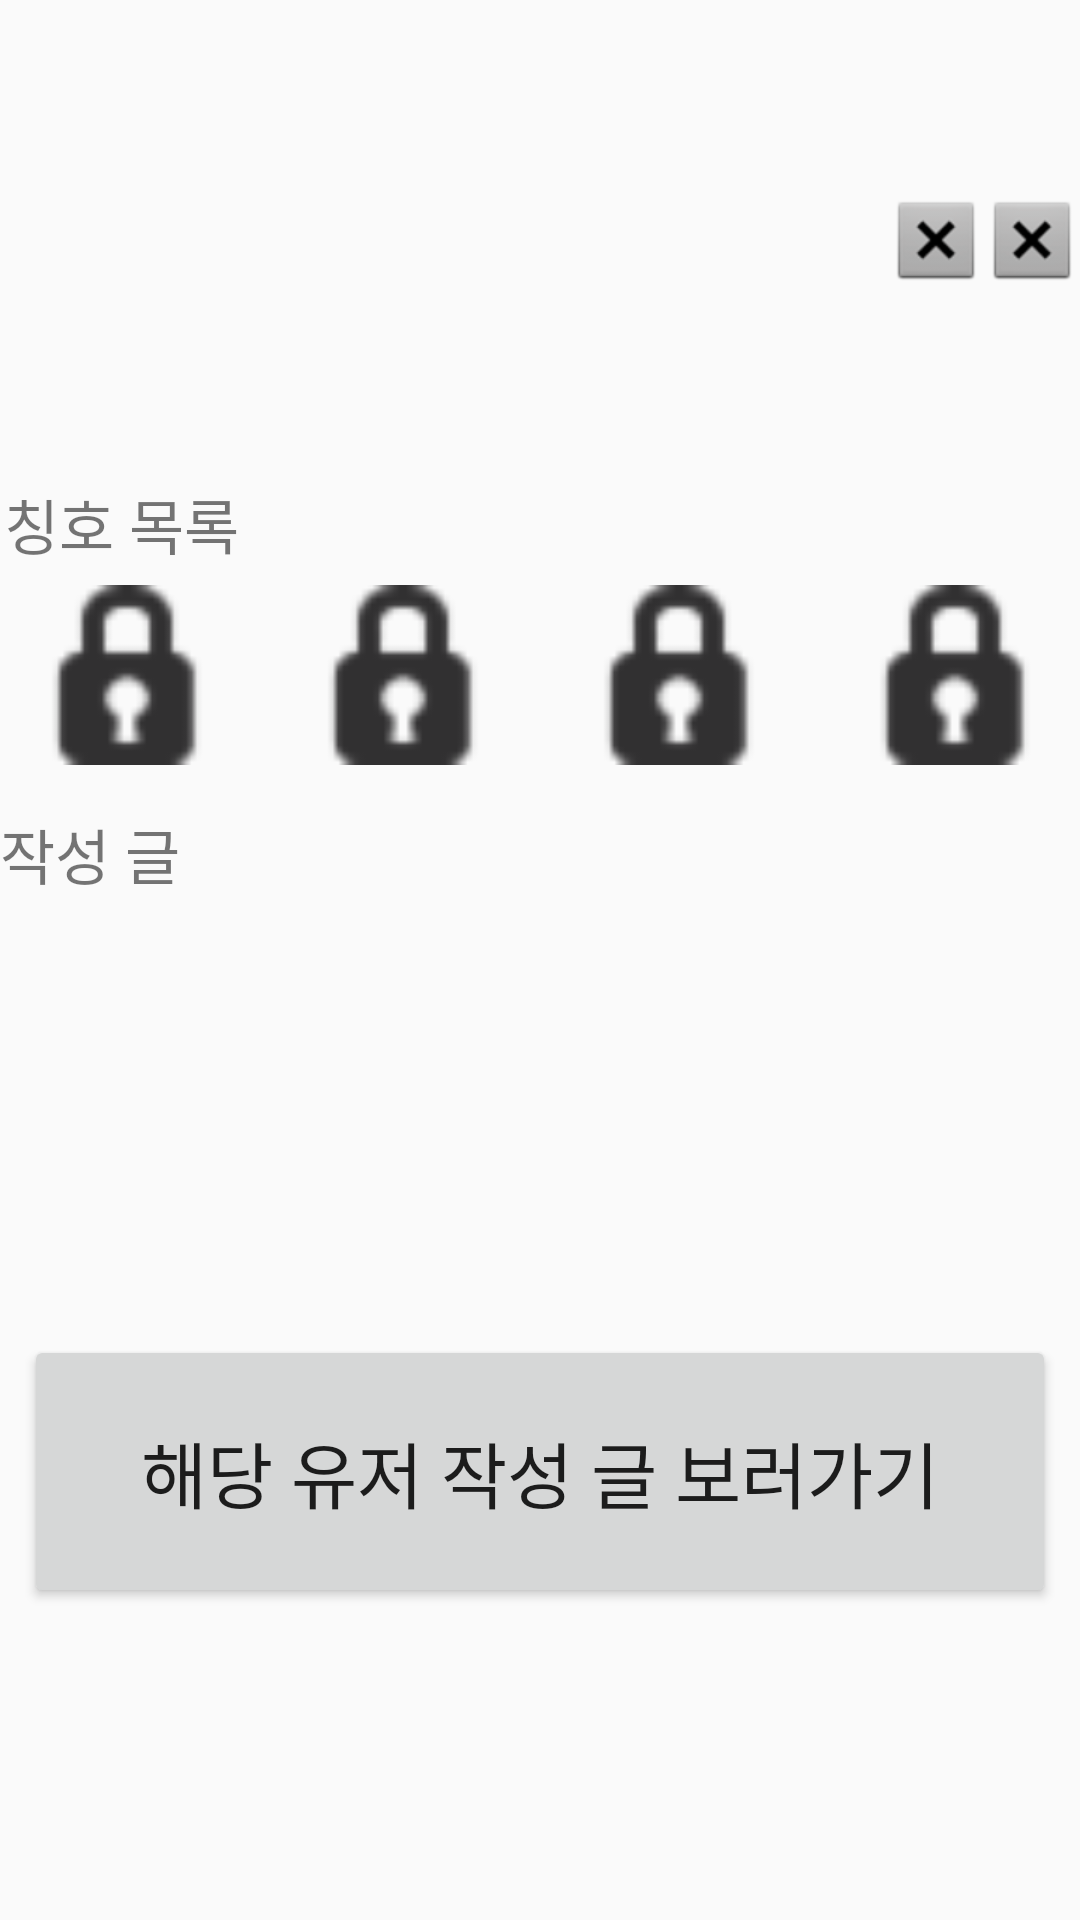

Point at icon controls on the screen. Image size 1080 × 1920, points as (x,y).
secure: (126,675), (402,675), (678,675), (954,675)
